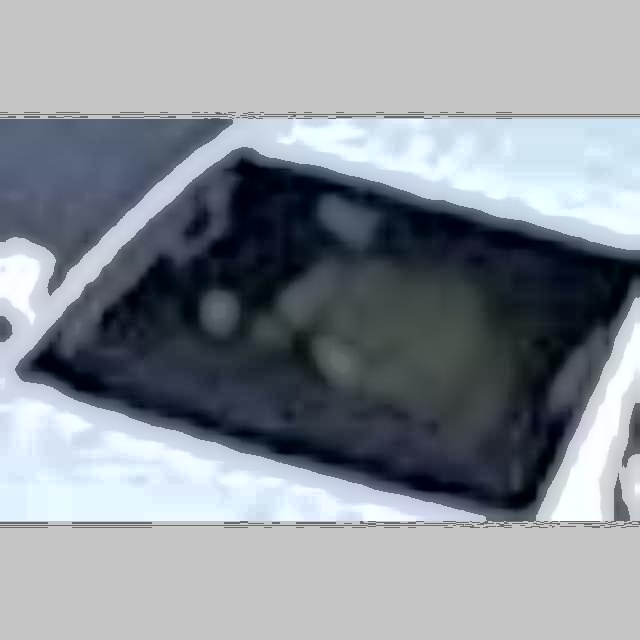tidak-pakai: (283, 210, 539, 430)
